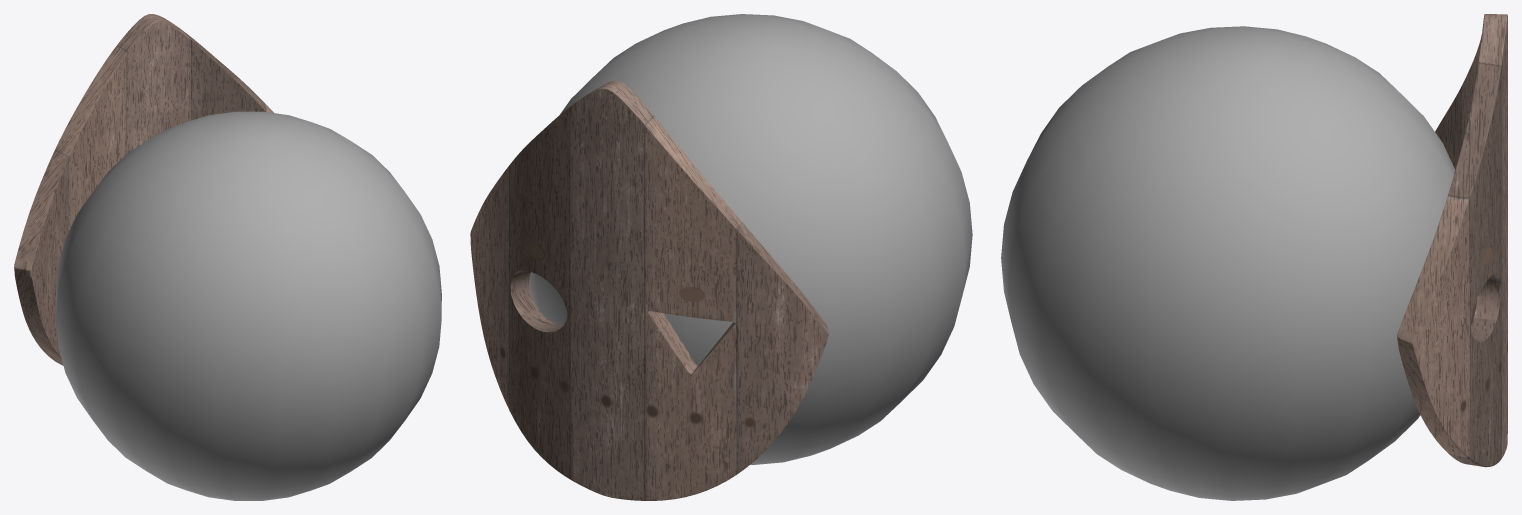
File: Spirit_Transform_Exit.fbx
The picture shows the model from 3 angles, left to right: view 1: azimuth 30°, elevation 25°; view 2: azimuth 150°, elevation 25°; view 3: azimuth 270°, elevation 25°; orthographic projection. The views are drawn at different scales.
Parts seen in each view (by area): view 1: outerSphere, baseMask; view 2: baseMask, outerSphere; view 3: outerSphere, baseMask.
Part boxes in pixels (x1,y1,x2,y2): outerSphere: [56, 111, 441, 500]; baseMask: [14, 14, 273, 365]; baseMask: [470, 81, 828, 500]; outerSphere: [529, 14, 972, 464]; outerSphere: [1001, 26, 1455, 500]; baseMask: [1397, 14, 1507, 467].
Bounding box in the file's own units: 200 × 218 × 213.
2 materials, 1 textured.
